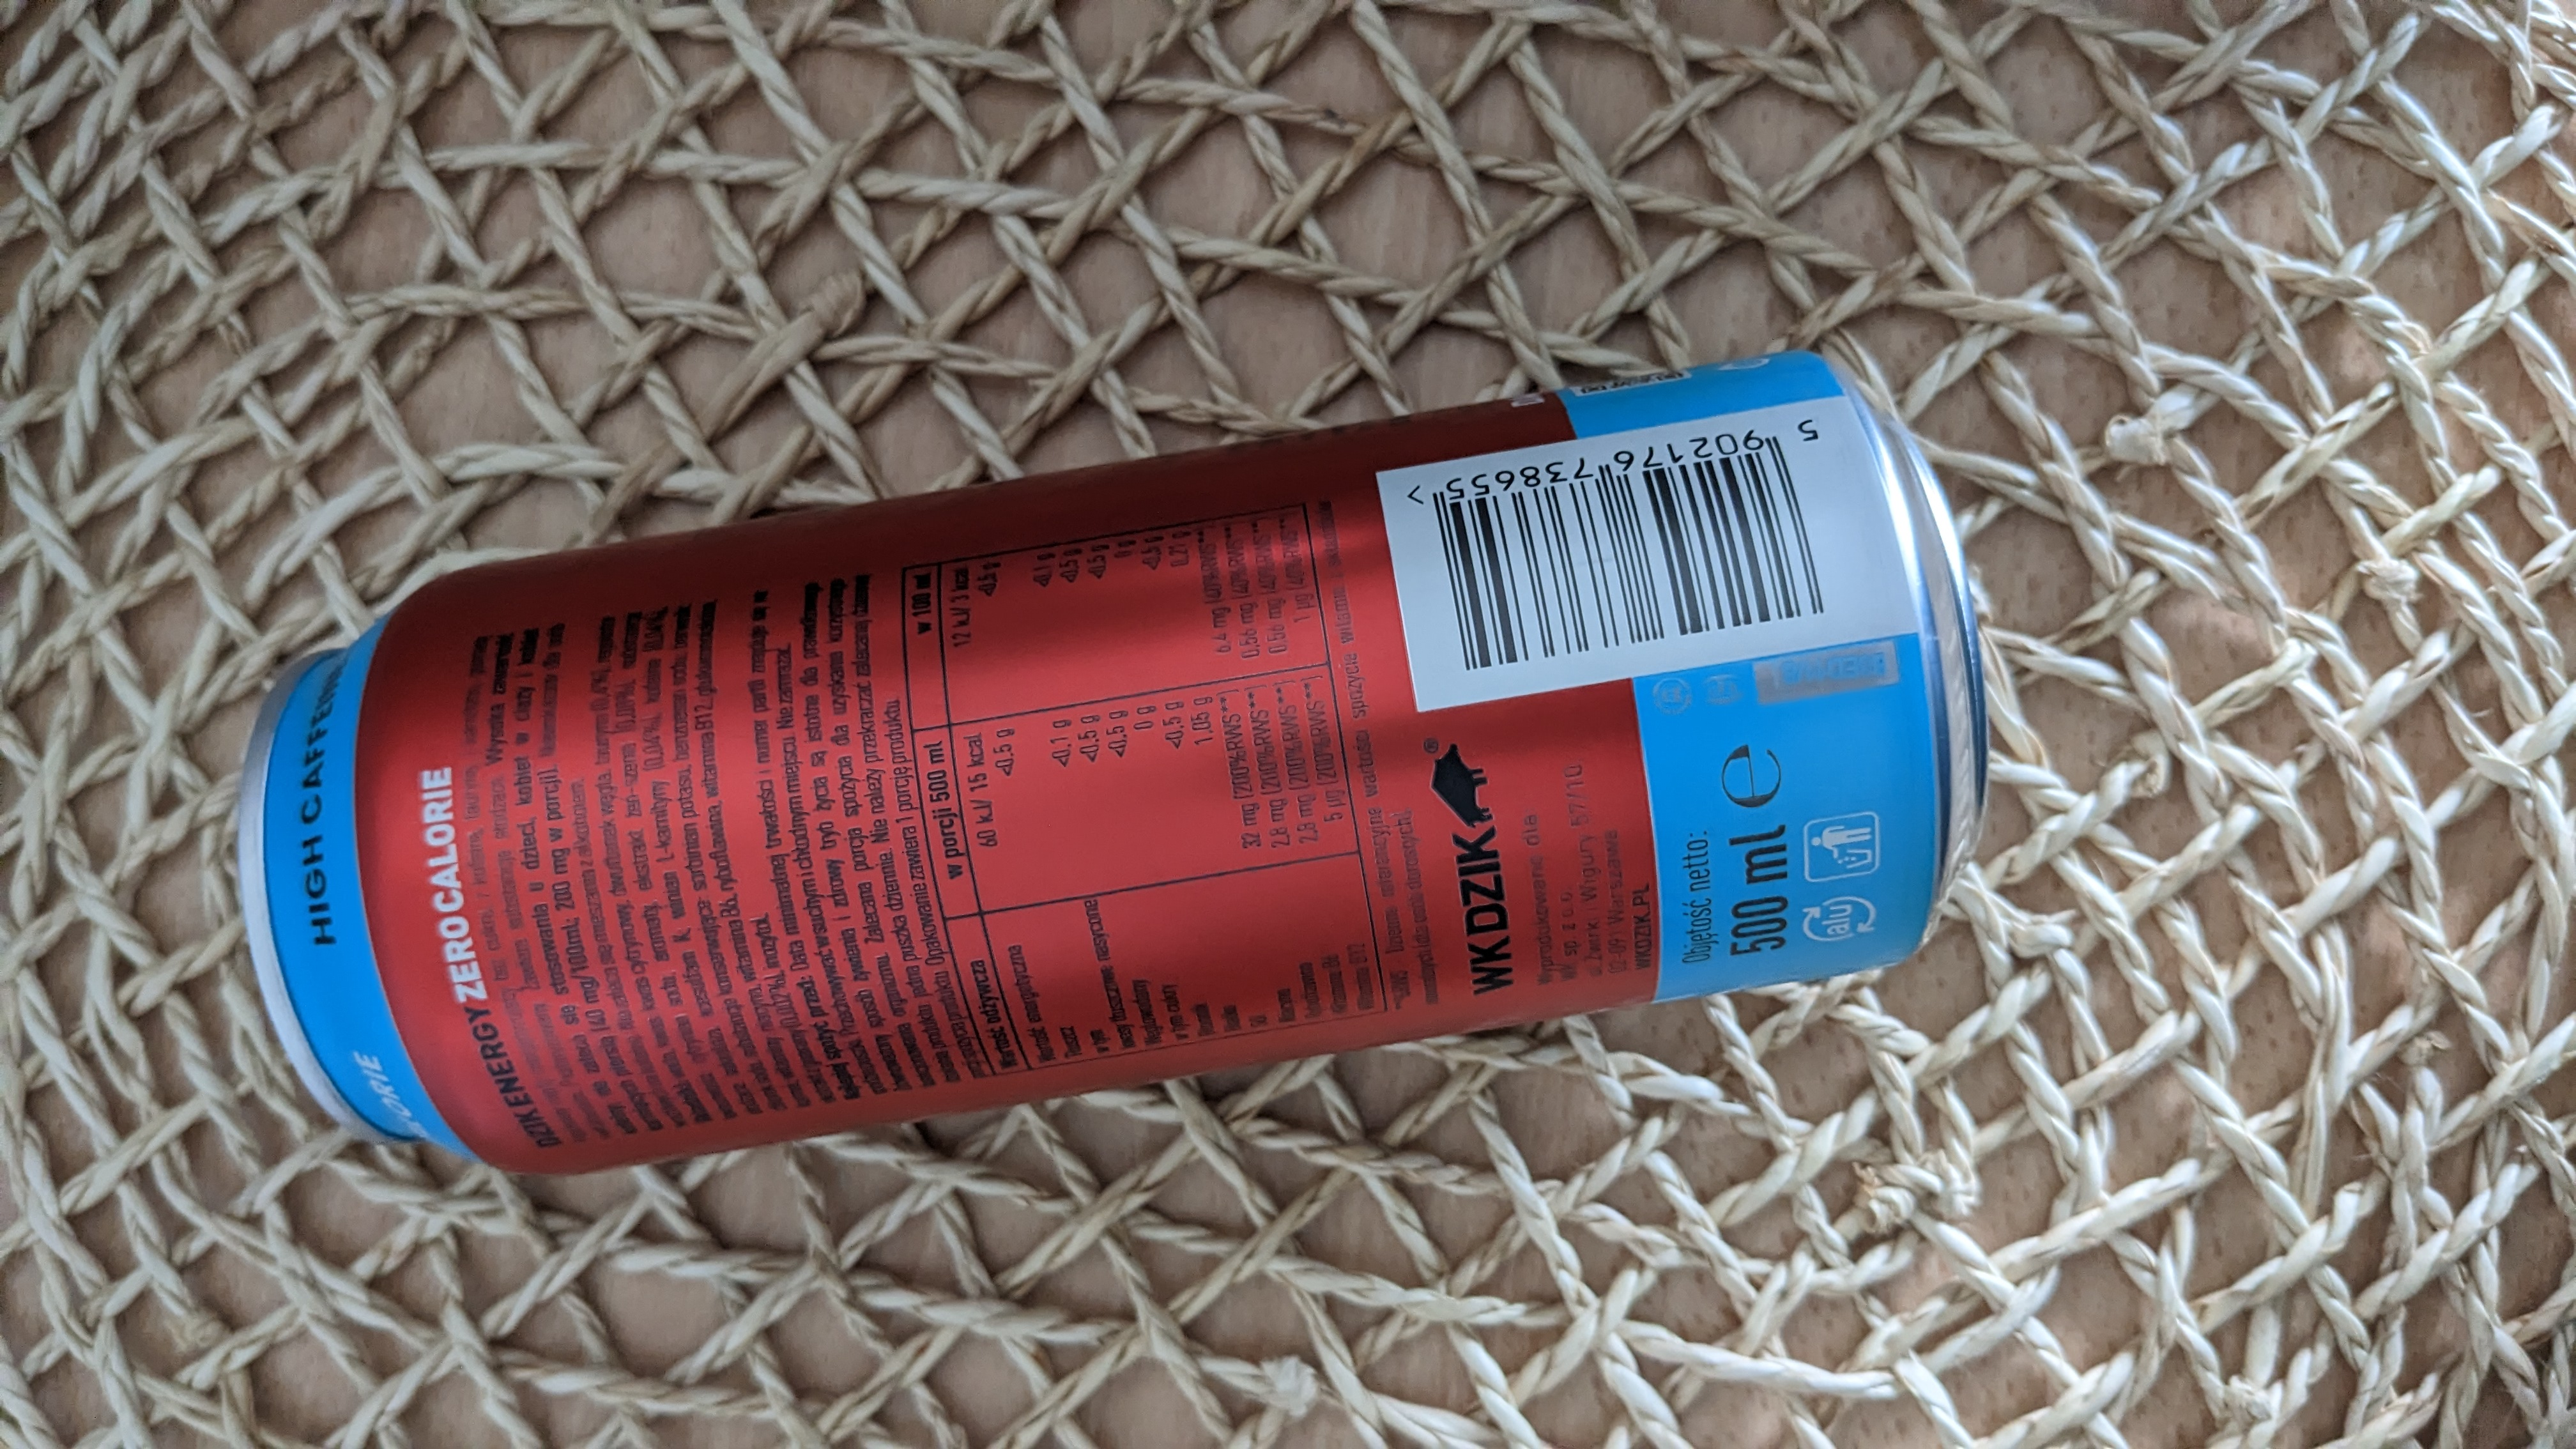dzik: (239, 317, 1999, 1166)
